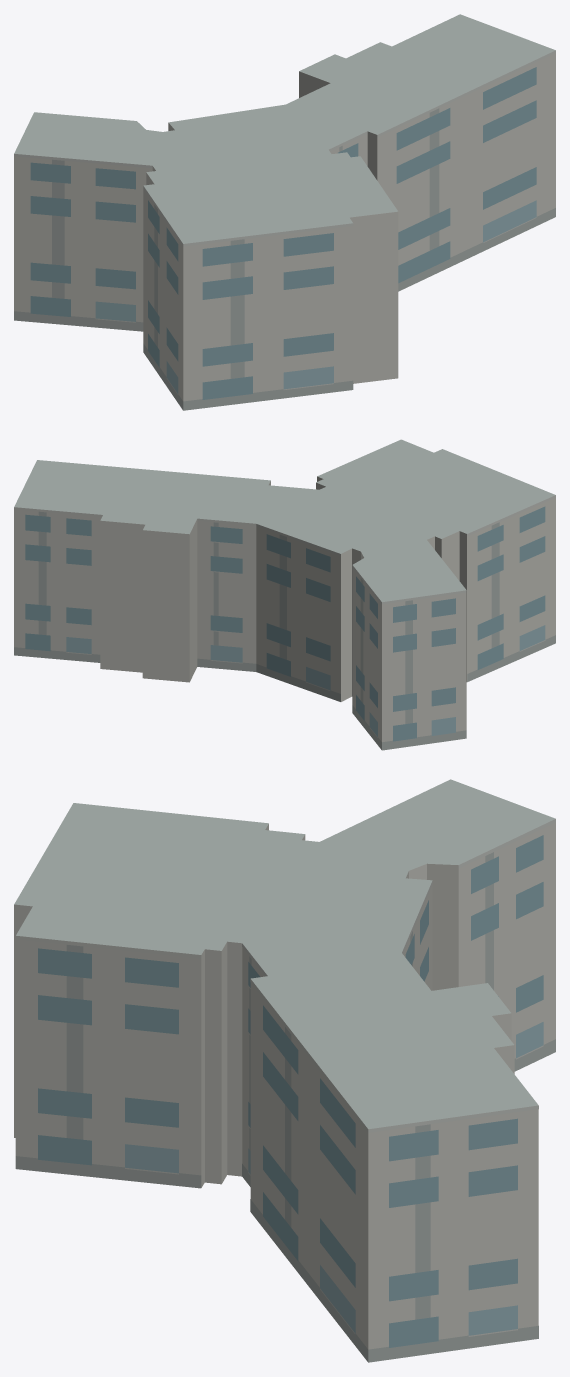
The model's file is residential-ad6718bf-5160-444b-b516-bc8340ea1c1f.glb.
The picture shows the model from 3 angles, top to bottom: view 1: azimuth 30°, elevation 25°; view 2: azimuth 150°, elevation 25°; view 3: azimuth 270°, elevation 25°; orthographic projection. The views are drawn at different scales.
Visible parts, largest first — view 1: residential-ad6718bf-5160-444b-b516-bc8340ea1c1f.tmp; view 2: residential-ad6718bf-5160-444b-b516-bc8340ea1c1f.tmp; view 3: residential-ad6718bf-5160-444b-b516-bc8340ea1c1f.tmp.
Boxes of the visible parts, <box> form: residential-ad6718bf-5160-444b-b516-bc8340ea1c1f.tmp: <box>14,14,555,410</box>; residential-ad6718bf-5160-444b-b516-bc8340ea1c1f.tmp: <box>14,439,555,750</box>; residential-ad6718bf-5160-444b-b516-bc8340ea1c1f.tmp: <box>14,779,555,1362</box>.
Bounding box in the file's own units: 49.06 × 15.25 × 32.1.
